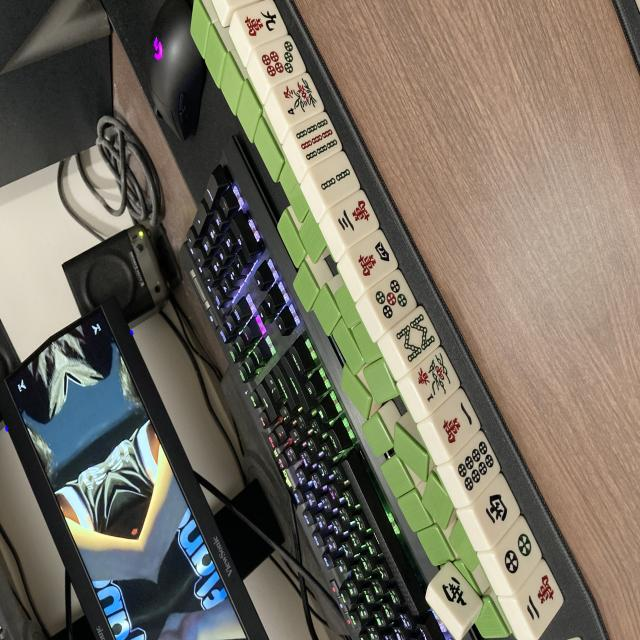ff1: (406, 346, 461, 411)
ff4: (272, 73, 325, 127)
m1: (429, 390, 484, 460)
m2: (513, 560, 567, 638)
m3: (328, 190, 382, 247)
m4: (344, 230, 399, 288)
m9: (234, 1, 287, 50)
s2: (308, 152, 362, 208)
s8: (390, 310, 444, 370)
s9: (290, 114, 344, 168)
south: (430, 564, 484, 630)
t2: (491, 517, 547, 594)
t5: (364, 270, 420, 332)
t7: (253, 36, 307, 88)
t8: (447, 432, 503, 502)
west: (470, 473, 524, 545)
